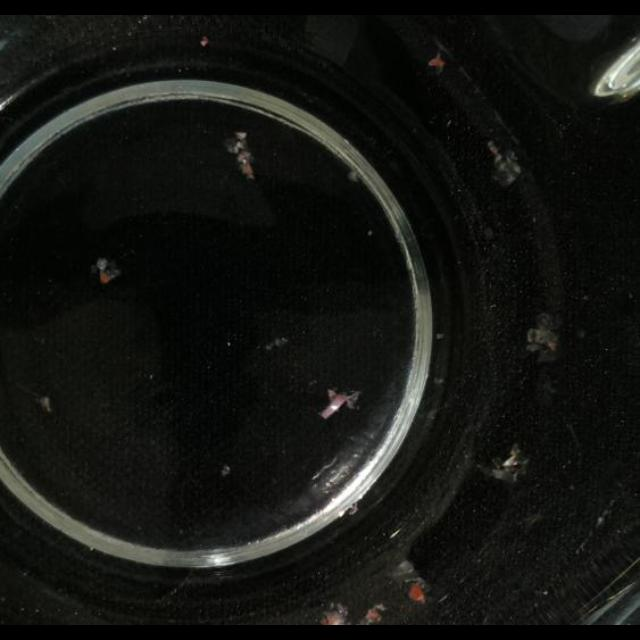Fragment: (518, 308, 566, 368), (223, 128, 265, 180), (484, 138, 530, 182), (488, 443, 528, 483), (318, 386, 360, 420), (91, 256, 122, 286), (320, 602, 350, 624), (406, 582, 426, 604), (363, 606, 385, 624), (427, 54, 445, 74), (38, 396, 52, 414)
microbeads: (196, 32, 212, 56), (264, 336, 288, 352), (220, 464, 236, 478), (435, 332, 445, 340), (434, 377, 444, 385)
